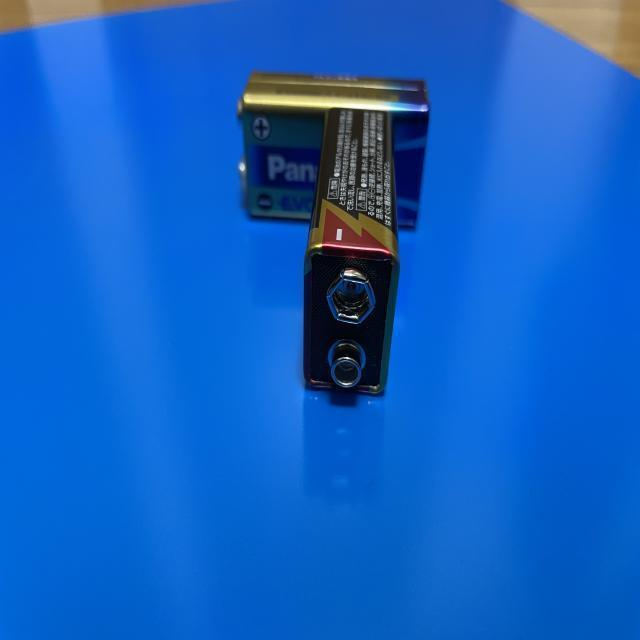9V: (236, 69, 431, 231), (302, 105, 401, 402)
